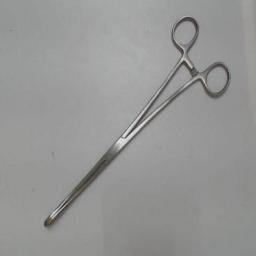Sponge Forceps: (40, 10, 234, 234)
